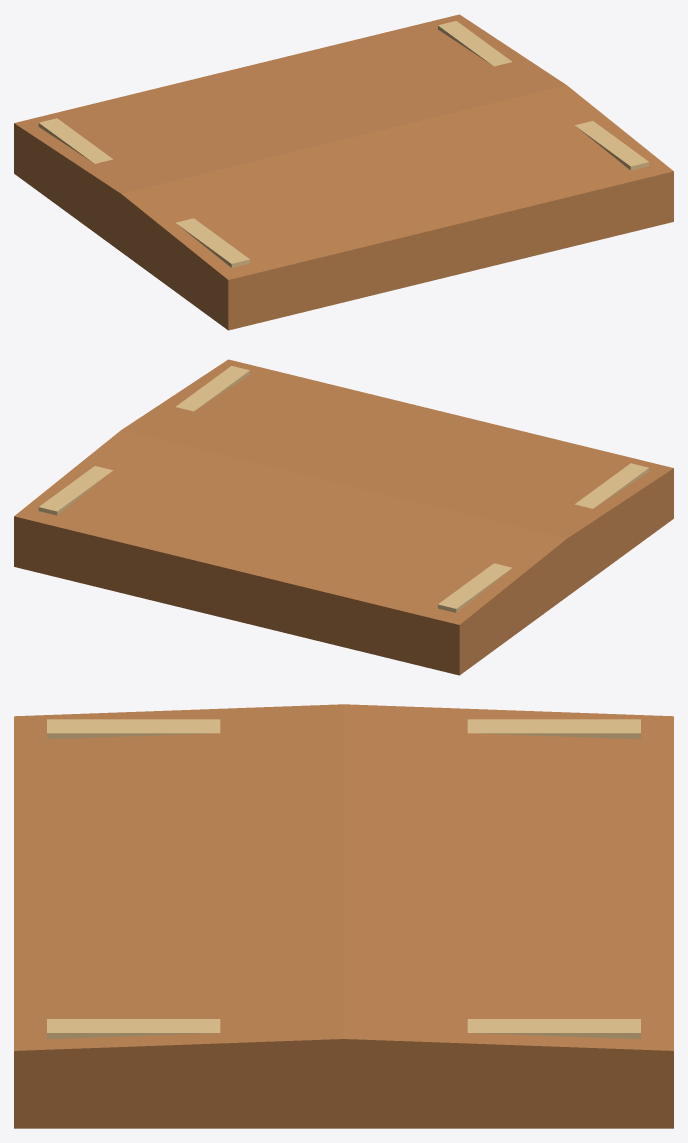
The model's file is plank_1_5.glb.
3 renders of one model, top to bottom at view 1: azimuth 30°, elevation 25°; view 2: azimuth 150°, elevation 25°; view 3: azimuth 270°, elevation 25°, orthographic. The views are drawn at different scales.
Visible parts, largest first — view 1: plank; view 2: plank; view 3: plank.
Part boxes in pixels (left/top/right/bottom): plank: left=14, top=14, right=673, bottom=330; plank: left=14, top=359, right=673, bottom=675; plank: left=14, top=704, right=673, bottom=1128.
Size of the model in its own units: 0.048 by 0.006 by 0.04.
